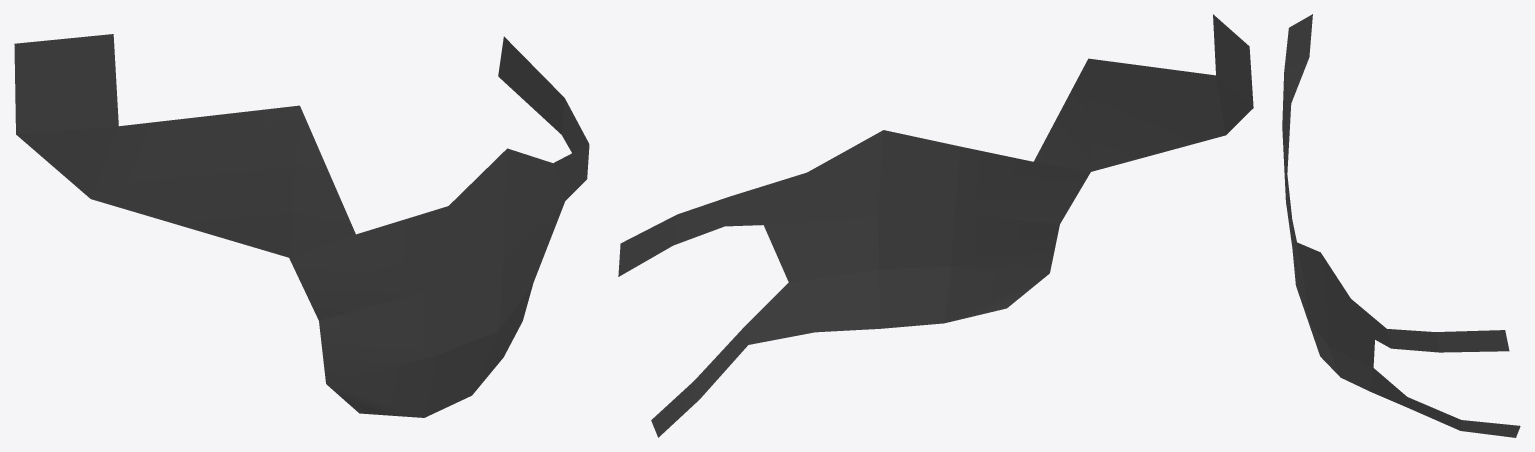
The model's file is eyepatch.glb.
The picture shows the model from 3 angles, left to right: view 1: azimuth 30°, elevation 25°; view 2: azimuth 150°, elevation 25°; view 3: azimuth 270°, elevation 25°; orthographic projection. The views are drawn at different scales.
Visible parts, largest first — view 1: eyepatch.002; view 2: eyepatch.002; view 3: eyepatch.002.
Boxes of the visible parts, x1,y1,x2,y2 form: eyepatch.002: (14,34,589,417); eyepatch.002: (618,14,1253,437); eyepatch.002: (1282,14,1520,437).
Bounding box in the file's own units: 0.1305 × 0.1013 × 0.0789.
Materials: 1 (1 with a texture image).
